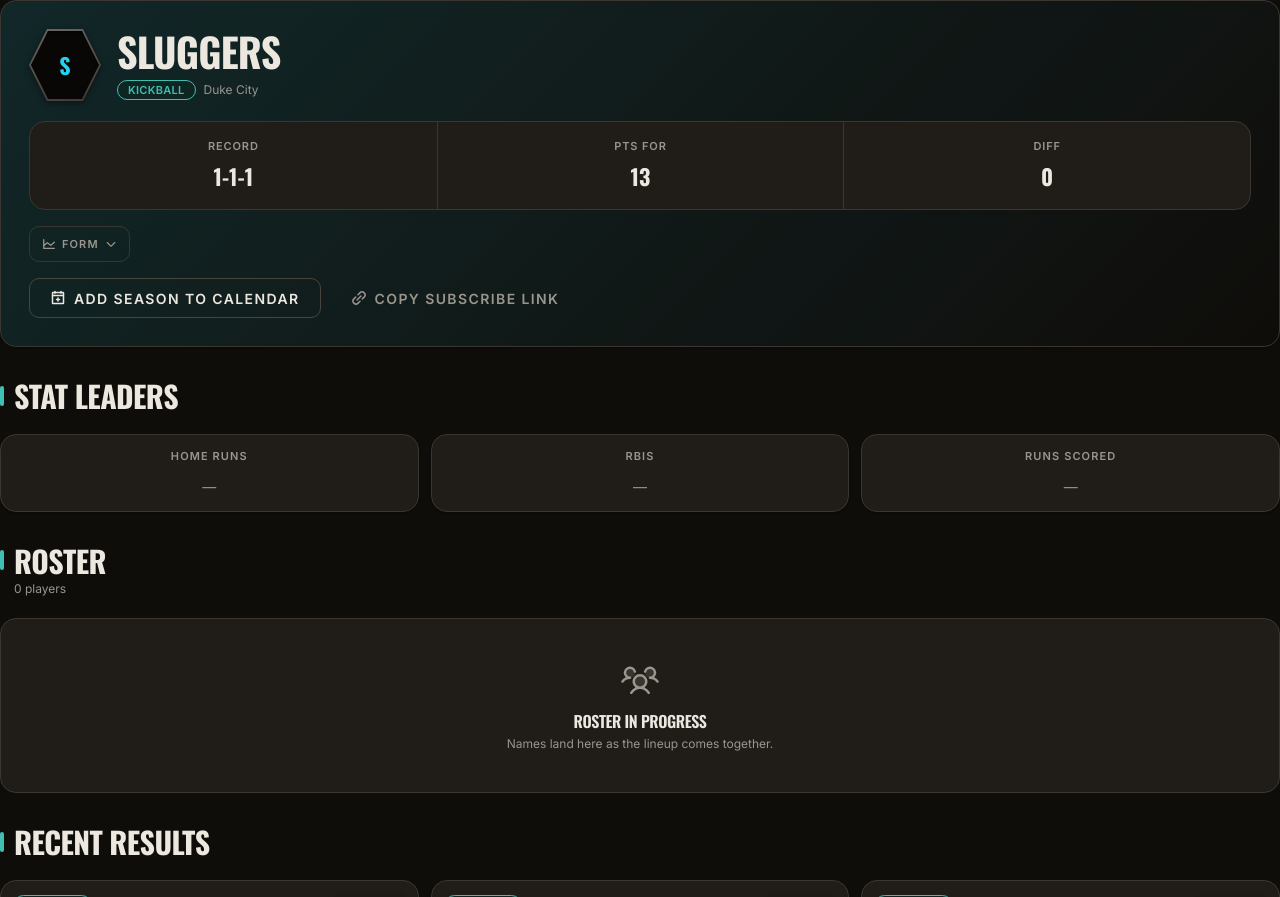
Test: TeamPage form sparkline › closed by default; opening reveals an aria-hidden SVG with one dot per finalized game
Click the button with test id "team-form-toggle" at (79,244), box [29,226,130,262]
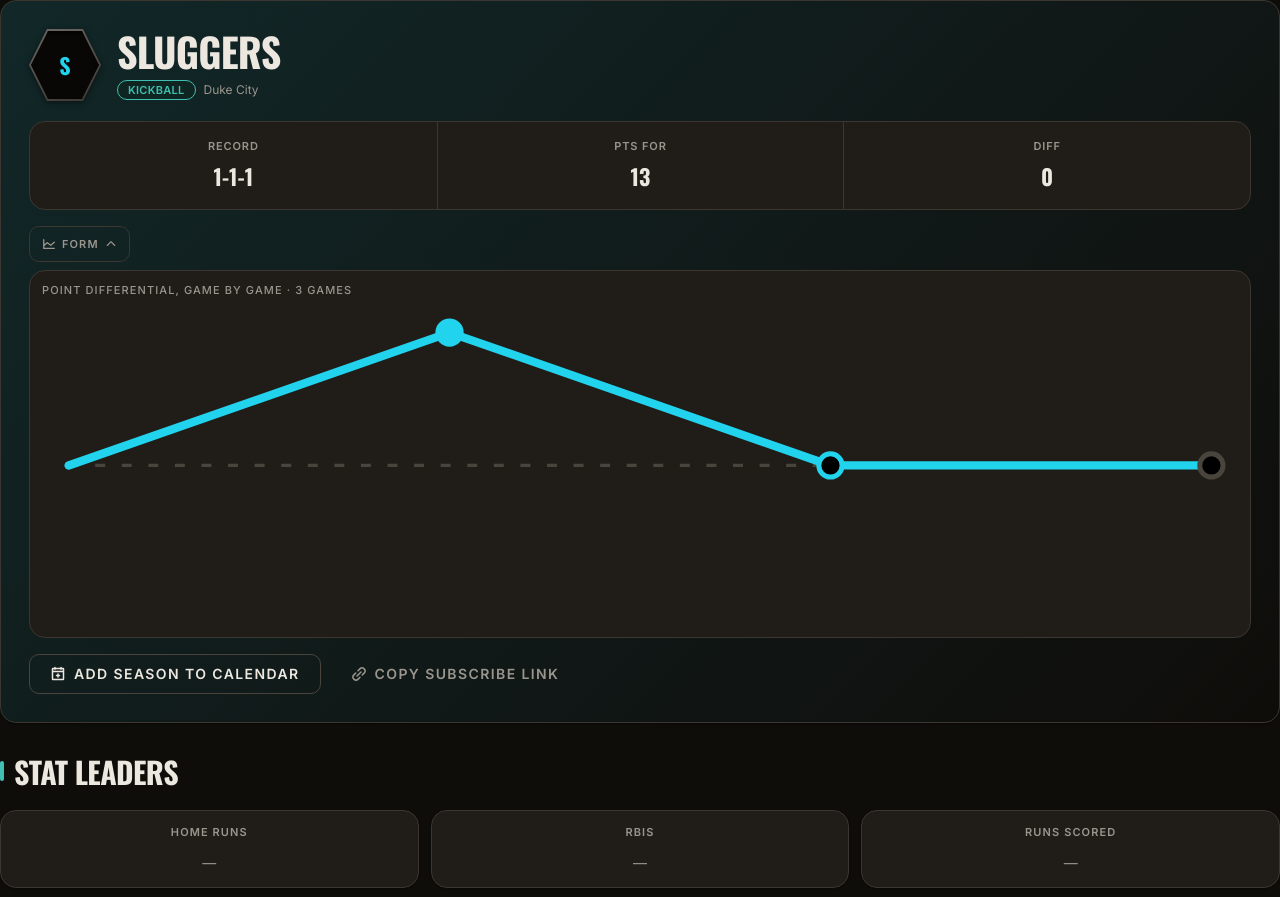
Expected: the element with test id "team-form-graph" is shown, [29,270,1251,638]
